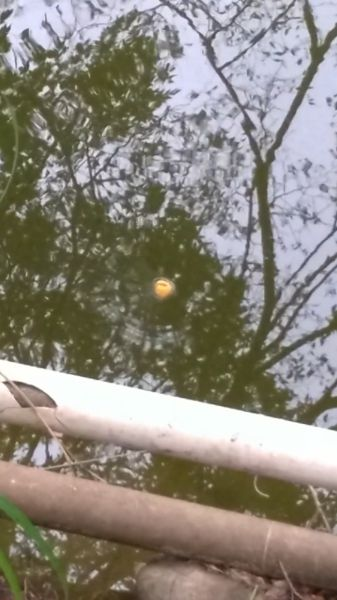eggs: (150, 276, 178, 301)
